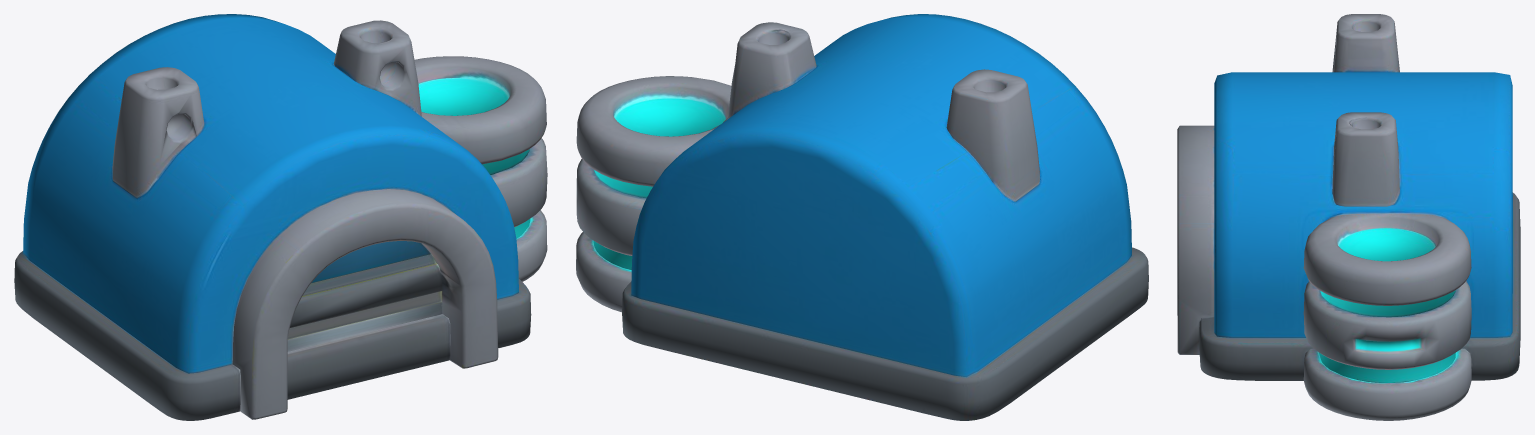
The model's file is barracks_2.glb.
3 renders of one model, left to right at view 1: azimuth 30°, elevation 25°; view 2: azimuth 150°, elevation 25°; view 3: azimuth 270°, elevation 25°, orthographic. The views are drawn at different scales.
Visible parts, largest first — view 1: tripo_node_d6a1a098-da9a-4888-9f34-c17a667df5e2; view 2: tripo_node_d6a1a098-da9a-4888-9f34-c17a667df5e2; view 3: tripo_node_d6a1a098-da9a-4888-9f34-c17a667df5e2.
Part boxes in pixels (x1=…): tripo_node_d6a1a098-da9a-4888-9f34-c17a667df5e2: x1=14, y1=14, x2=547, y2=420; tripo_node_d6a1a098-da9a-4888-9f34-c17a667df5e2: x1=576, y1=14, x2=1148, y2=420; tripo_node_d6a1a098-da9a-4888-9f34-c17a667df5e2: x1=1177, y1=14, x2=1520, y2=420.
Size of the model in its own units: 4.2 by 2.25 by 3.04.
1 material, 1 textured.
